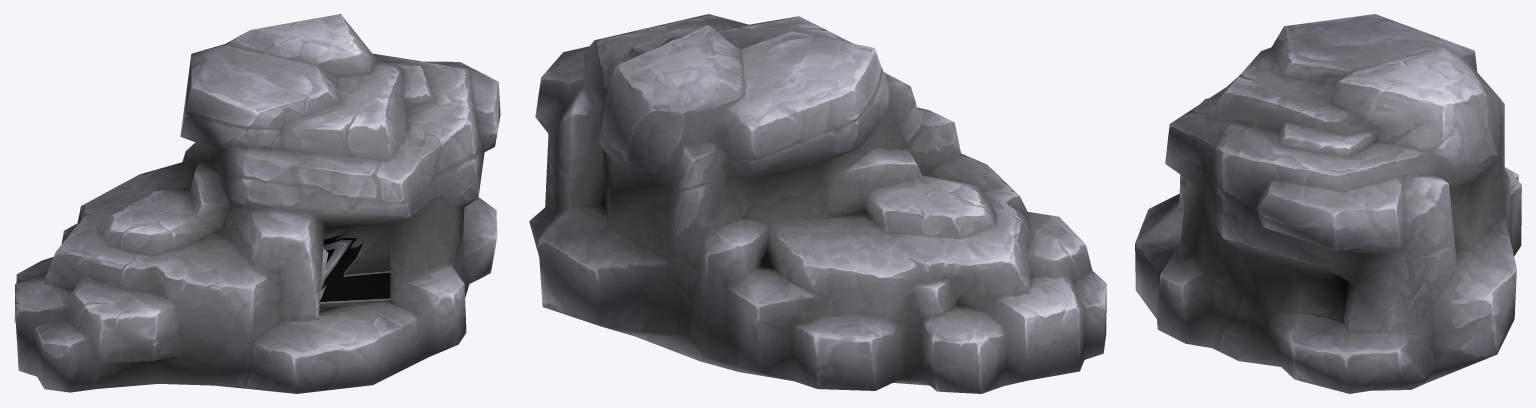
The model's file is PrototypeThreeRock3.fbx.
3 views of the same model, side by side, from view 1: azimuth 30°, elevation 25°; view 2: azimuth 150°, elevation 25°; view 3: azimuth 270°, elevation 25° (orthographic). The views are drawn at different scales.
Visible parts, largest first — view 1: Rock3; view 2: Rock3; view 3: Rock3.
Boxes of the visible parts, left/top/right/bottom form: Rock3: left=14, top=14, right=500, bottom=393; Rock3: left=529, top=14, right=1106, bottom=393; Rock3: left=1135, top=14, right=1521, bottom=393.
Bounding box in the file's own units: 15501 × 7647 × 10262.
